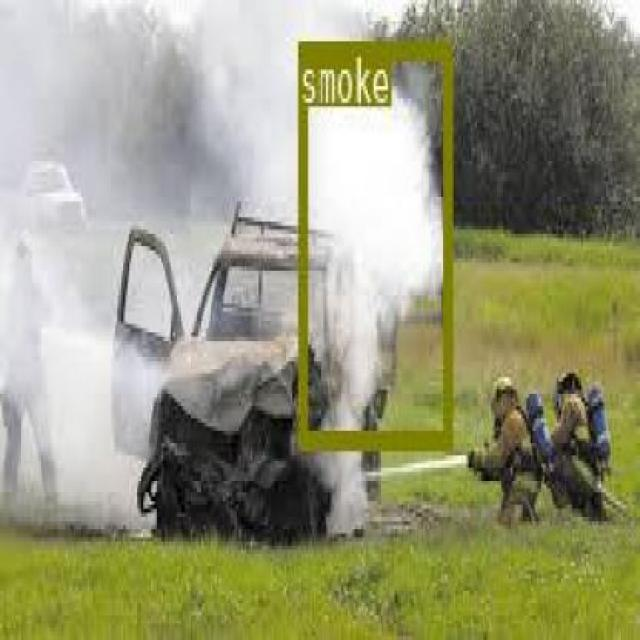Smoke: (296, 40, 450, 445)
